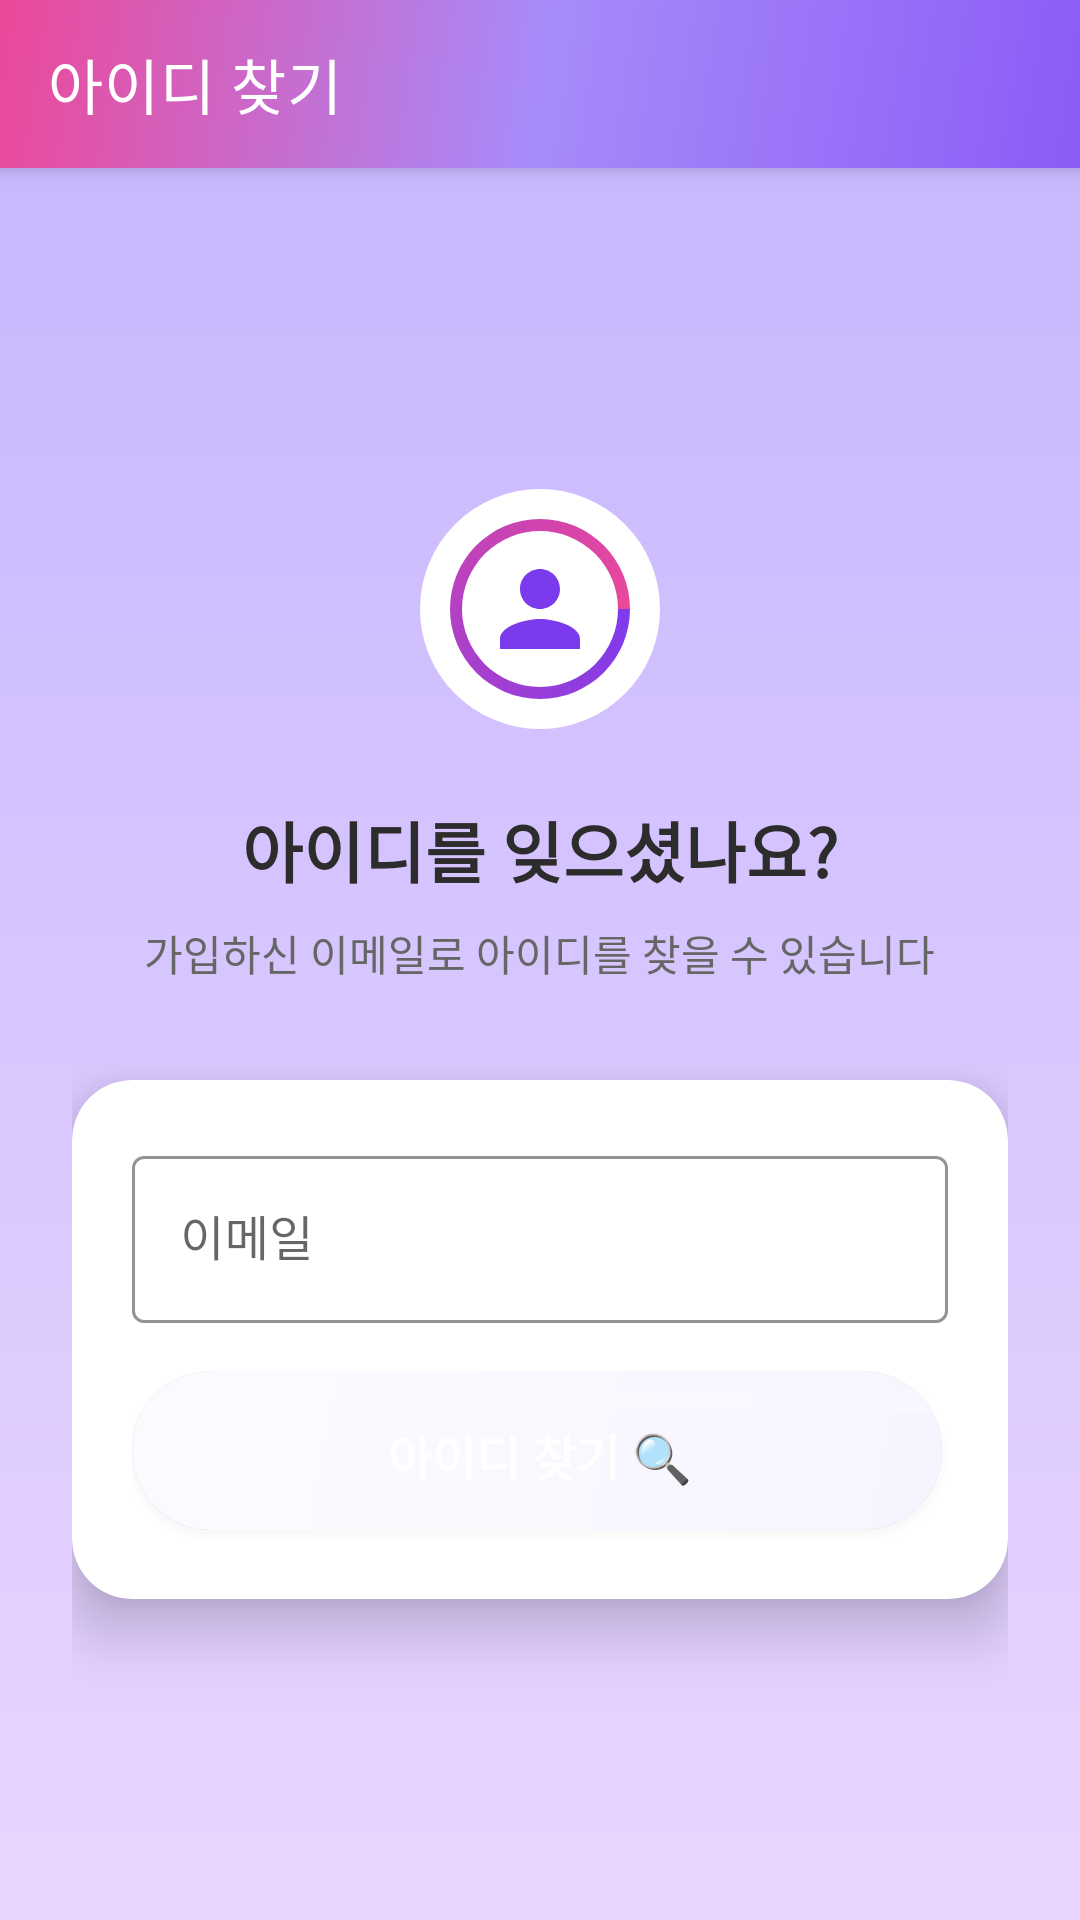

Icon bounding boxes for this 1080×1920 phone screenshot, format {"x1": x1, "y1": y1, "x2": x2, "y2": y2}:
person: {"x1": 420, "y1": 489, "x2": 660, "y2": 729}
